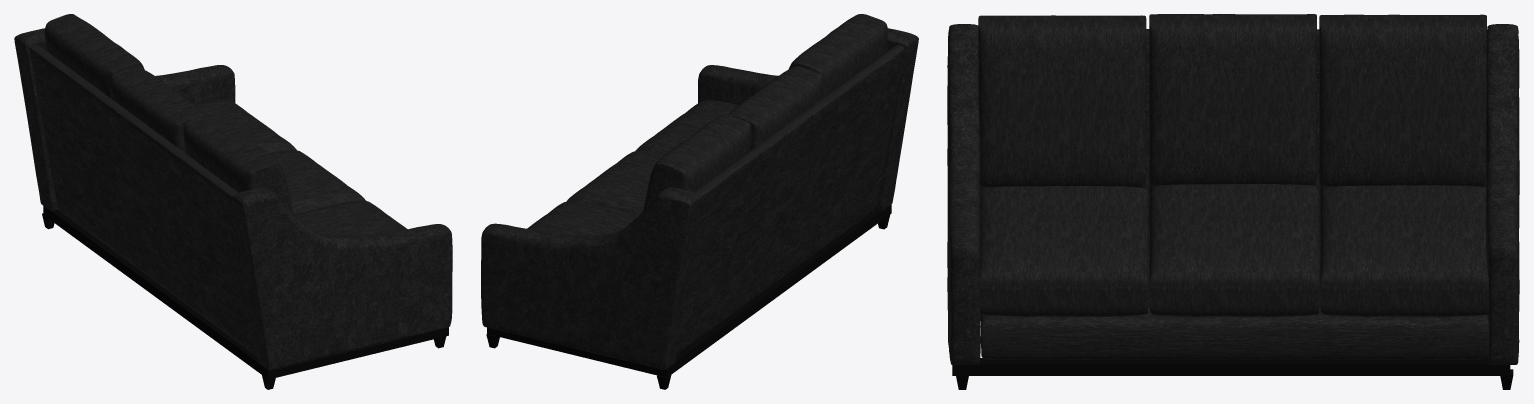
Rendered from leather.glb.
The picture shows the model from 3 angles, left to right: view 1: azimuth 30°, elevation 25°; view 2: azimuth 150°, elevation 25°; view 3: azimuth 270°, elevation 25°; orthographic projection. The views are drawn at different scales.
Parts seen in each view (by area): view 1: Box022, Line006, Line005, Box026, Box025, Box023, Box024, Box019, Box021, Box020; view 2: Box022, Line005, Line006, Box023, Box026, Box025, Box024, Box019, Box020, Box021; view 3: Box023, Box025, Box024, Box019, Box018, Box021, Box020, Line006, Line005, Box026, Box022.
Boxes of the visible parts, bbox=[...] form: Box022: bbox=[29, 45, 256, 355]; Line006: bbox=[231, 187, 452, 370]; Line005: bbox=[14, 28, 235, 211]; Box026: bbox=[43, 206, 448, 379]; Box025: bbox=[183, 114, 292, 213]; Box023: bbox=[44, 14, 144, 98]; Box024: bbox=[110, 66, 205, 152]; Box019: bbox=[269, 150, 365, 214]; Box021: bbox=[293, 200, 407, 235]; Box020: bbox=[194, 99, 296, 153]; Box022: bbox=[677, 45, 904, 354]; Line005: bbox=[481, 187, 701, 369]; Line006: bbox=[698, 28, 918, 210]; Box023: bbox=[643, 114, 751, 211]; Box026: bbox=[487, 204, 891, 377]; Box025: bbox=[789, 14, 887, 98]; Box024: bbox=[728, 66, 823, 150]; Box019: bbox=[566, 150, 664, 214]; Box020: bbox=[527, 201, 638, 235]; Box021: bbox=[635, 100, 738, 154]; Box023: bbox=[1319, 14, 1486, 187]; Box025: bbox=[978, 15, 1146, 187]; Box024: bbox=[1149, 14, 1316, 186]; Box019: bbox=[1149, 180, 1319, 317]; Box018: bbox=[981, 221, 1488, 359]; Box021: bbox=[980, 180, 1148, 317]; Box020: bbox=[1320, 185, 1488, 317]; Line006: bbox=[947, 24, 980, 364]; Line005: bbox=[1485, 24, 1519, 364]; Box026: bbox=[952, 358, 1510, 375]; Box022: bbox=[1146, 29, 1320, 220].
Size of the model in its own units: 0.766 by 0.7485 by 1.45.
Materials: 2 (1 with a texture image).
